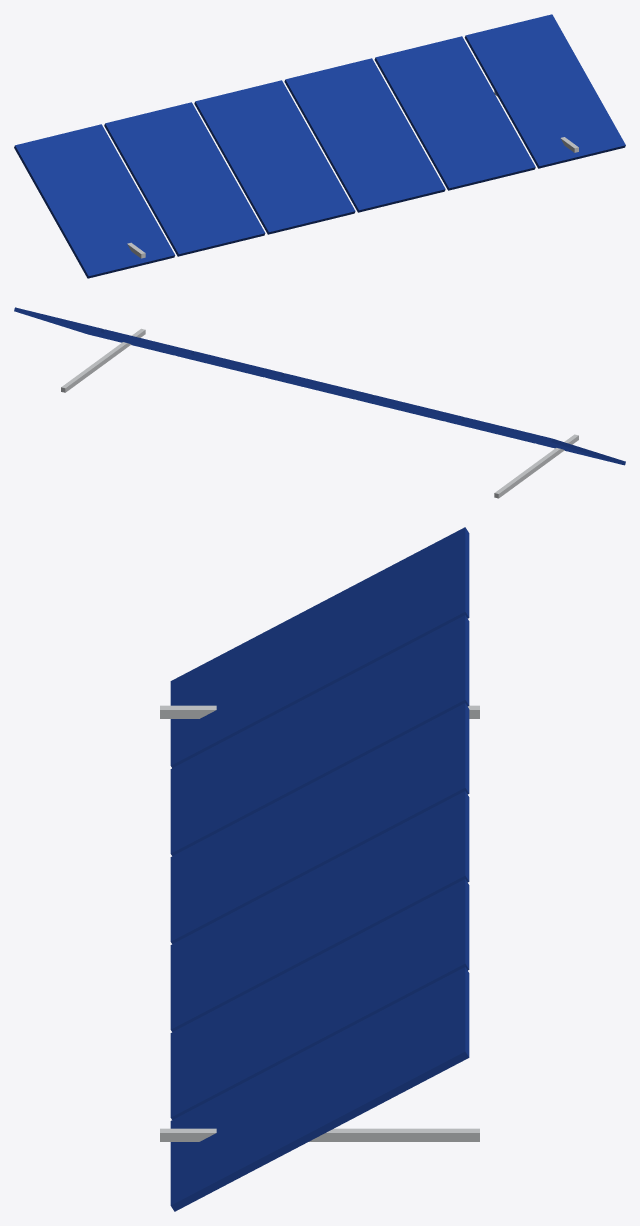
File: energy.plant.solar_roof.glb
3 views of the same model, one above another, from view 1: azimuth 30°, elevation 25°; view 2: azimuth 150°, elevation 25°; view 3: azimuth 270°, elevation 25° (orthographic). The views are drawn at different scales.
Visible parts, largest first — view 1: main__plastic_blue; view 2: main__plastic_blue, main__aluminium; view 3: main__plastic_blue, main__aluminium.
Part boxes in pixels (x1,y1,x2,y2): main__plastic_blue: [14, 14, 625, 278]; main__plastic_blue: [14, 307, 625, 465]; main__aluminium: [61, 328, 578, 498]; main__plastic_blue: [170, 527, 469, 1211]; main__aluminium: [160, 705, 479, 1141].
Size of the model in its own units: 6.2 by 0.8846 by 1.6.
